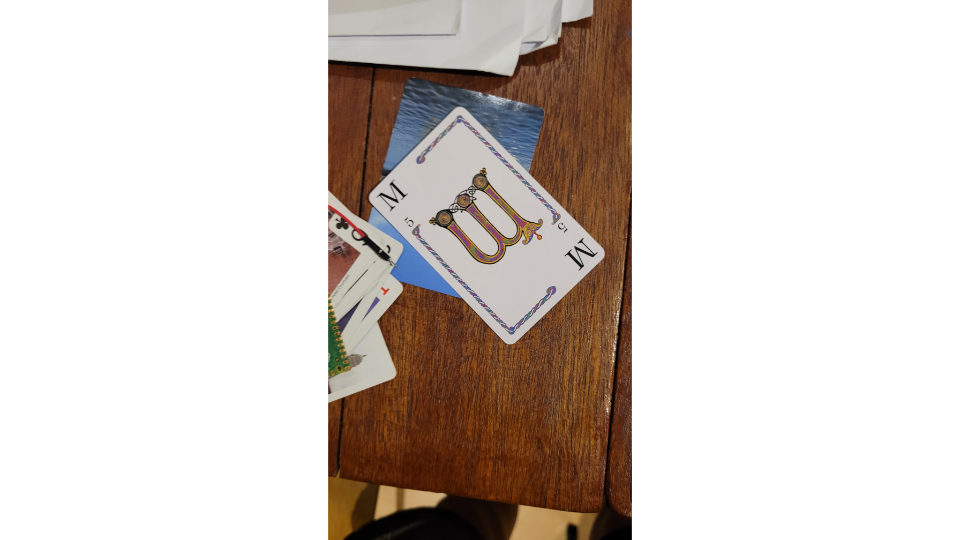M: (366, 104, 609, 347)
